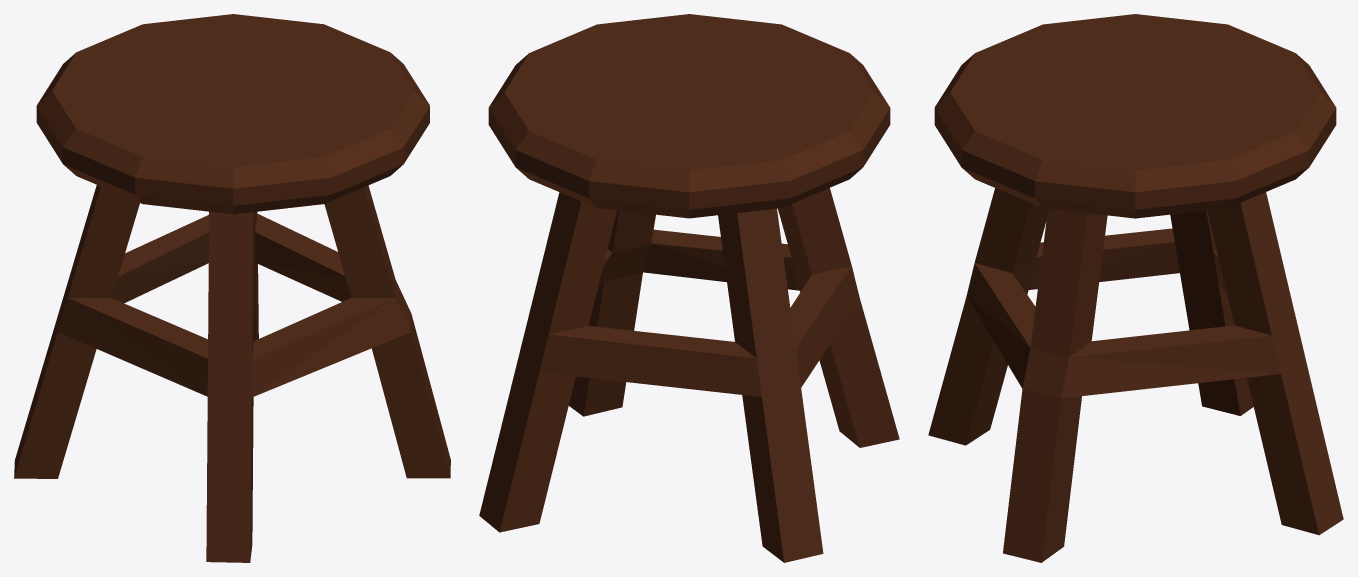
Rendered from 4er Hocker Var 2.fbx.
3 views of the same model, side by side, from view 1: azimuth 30°, elevation 25°; view 2: azimuth 150°, elevation 25°; view 3: azimuth 270°, elevation 25° (orthographic). The views are drawn at different scales.
Parts seen in each view (by area): view 1: 4er Hocker Var 2; view 2: 4er Hocker Var 2; view 3: 4er Hocker Var 2.
Part boxes in pixels (x1,y1,x2,y2): 4er Hocker Var 2: (14, 14, 450, 562); 4er Hocker Var 2: (479, 14, 899, 562); 4er Hocker Var 2: (928, 14, 1343, 562).
Bounding box in the file's own units: 61.61 × 64.07 × 62.6.
